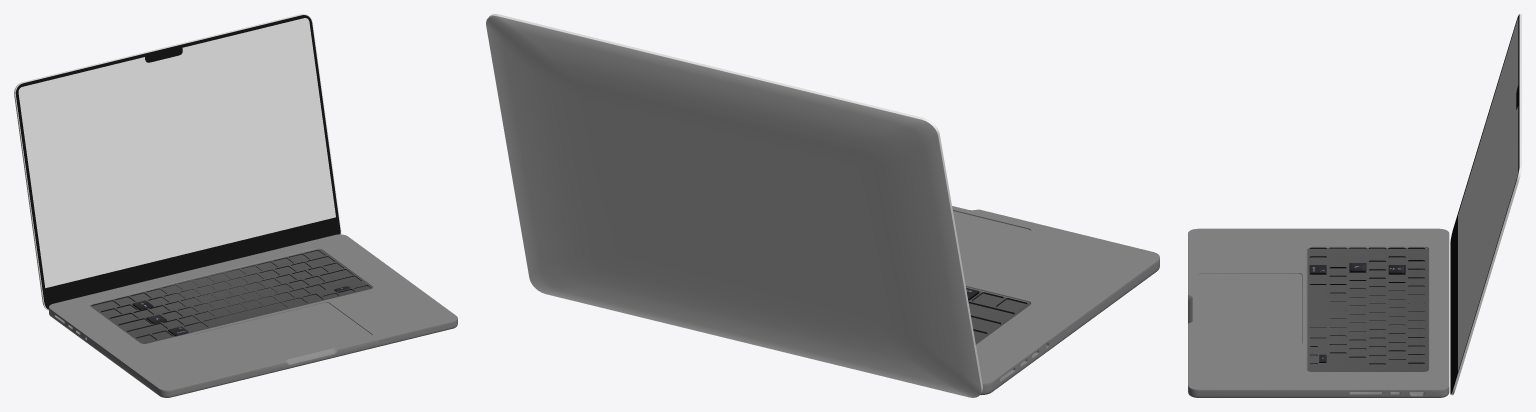
Rendered from macbookLaptop.glb.
3 views of the same model, side by side, from view 1: azimuth 30°, elevation 25°; view 2: azimuth 150°, elevation 25°; view 3: azimuth 270°, elevation 25° (orthographic). The views are drawn at different scales.
Visible parts, largest first — view 1: Screen, Body.001, ScreenBody, Body; view 2: ScreenBody, Body.001; view 3: Body.001, Screen, ScreenBody, Body.
Part boxes in pixels (x1,y1,x2,y2): Screen: (18, 18, 335, 287); Body.001: (49, 234, 457, 397); ScreenBody: (14, 14, 341, 310); Body: (92, 250, 370, 339); ScreenBody: (486, 14, 982, 397); Body.001: (952, 206, 1159, 395); Body.001: (1188, 228, 1449, 397); Screen: (1458, 18, 1518, 370); ScreenBody: (1450, 14, 1521, 395); Body: (1309, 247, 1424, 364).
Size of the model in its own units: 0.8093 by 0.5356 by 0.7095.
6 materials, 1 textured.
